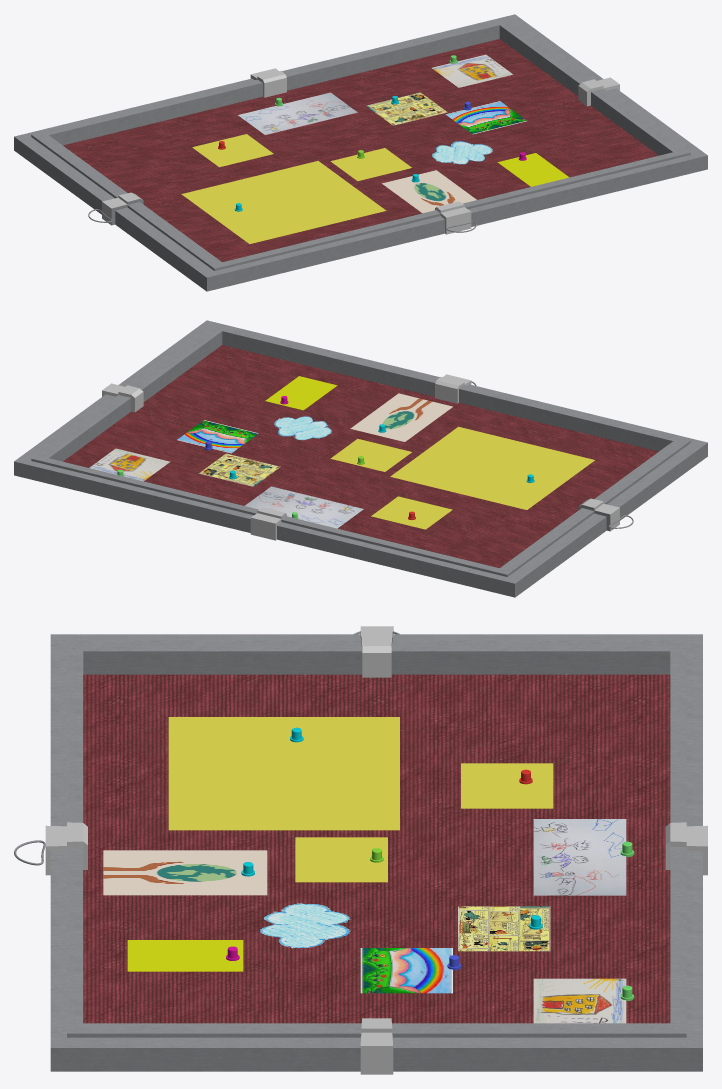
File: Board.fbx
The picture shows the model from 3 angles, top to bottom: view 1: azimuth 30°, elevation 25°; view 2: azimuth 150°, elevation 25°; view 3: azimuth 270°, elevation 25°; orthographic projection. The views are drawn at different scales.
Parts seen in each view (by area): view 1: Circle, Plane.005, Plane.008, Plane.001, Plane.007, Plane.006, Plane, Plane.004, Plane.003, Plane.002, Plane.009; view 2: Circle, Plane.005, Plane.001, Plane.008, Plane.006, Plane.004, Plane, Plane.003, Plane.007, Plane.002, Plane.009; view 3: Circle, Plane.005, Plane.001, Plane.008, Plane.007, Plane.006, Plane, Plane.004, Plane.003, Plane.002, Plane.009.
Boxes of the visible parts, left/top/right/bottom form: Circle: left=14, top=14, right=707, bottom=291; Plane.005: left=181, top=161, right=386, bottom=243; Plane.008: left=238, top=92, right=357, bottom=134; Plane.001: left=382, top=170, right=476, bottom=213; Plane.007: left=432, top=54, right=512, bottom=87; Plane.006: left=445, top=101, right=526, bottom=134; Plane: left=330, top=148, right=411, bottom=181; Plane.004: left=366, top=92, right=447, bottom=125; Plane.003: left=192, top=134, right=273, bottom=167; Plane.002: left=497, top=153, right=569, bottom=186; Plane.009: left=432, top=141, right=492, bottom=164; Circle: left=14, top=320, right=707, bottom=597; Plane.005: left=390, top=426, right=594, bottom=509; Plane.001: left=350, top=393, right=452, bottom=441; Plane.008: left=245, top=486, right=363, bottom=528; Plane.006: left=177, top=420, right=258, bottom=453; Plane.004: left=199, top=453, right=280, bottom=486; Plane: left=330, top=438, right=411, bottom=471; Plane.003: left=371, top=496, right=452, bottom=529; Plane.007: left=89, top=448, right=170, bottom=481; Plane.002: left=265, top=376, right=337, bottom=410; Plane.009: left=274, top=416, right=331, bottom=440; Circle: left=14, top=626, right=707, bottom=1074; Plane.005: left=168, top=717, right=399, bottom=830; Plane.001: left=103, top=850, right=267, bottom=895; Plane.008: left=533, top=819, right=626, bottom=895; Plane.007: left=533, top=978, right=626, bottom=1023; Plane.006: left=360, top=948, right=452, bottom=993; Plane: left=295, top=837, right=387, bottom=882; Plane.004: left=458, top=906, right=550, bottom=951; Plane.003: left=461, top=763, right=553, bottom=808; Plane.002: left=127, top=940, right=243, bottom=971; Plane.009: left=260, top=903, right=350, bottom=948.
Bounding box in the file's own units: 95.78 × 3.37 × 64.84.
